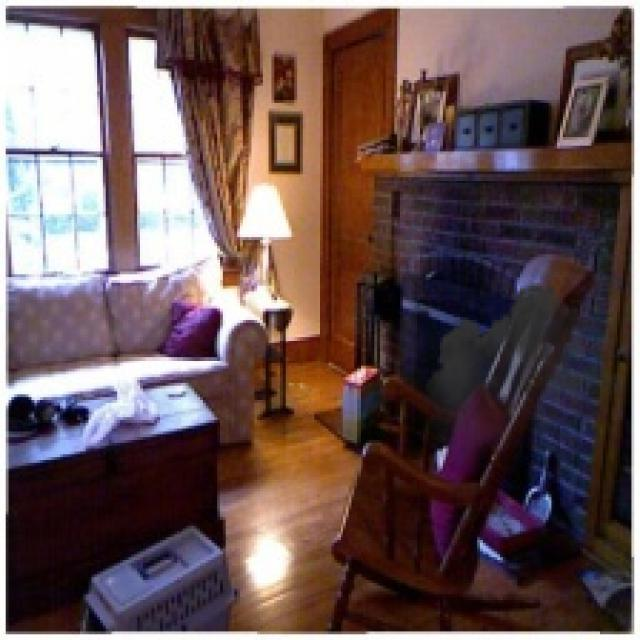Smoke: (420, 274, 626, 486)
